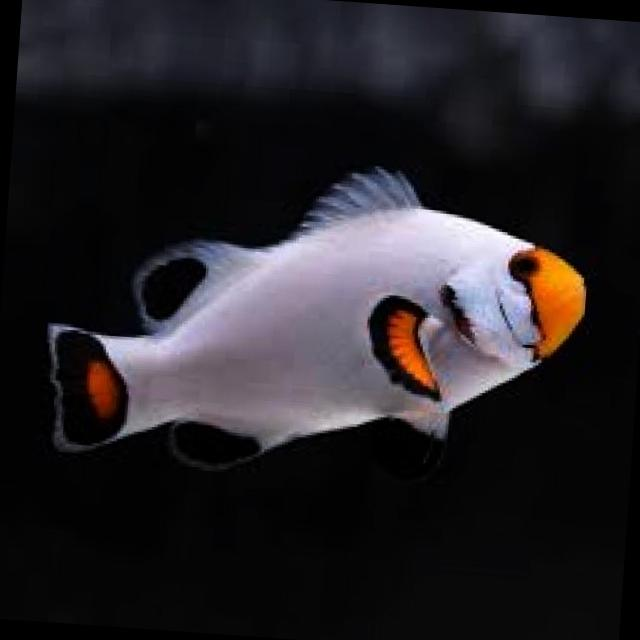ClownFish: (43, 150, 600, 511)
